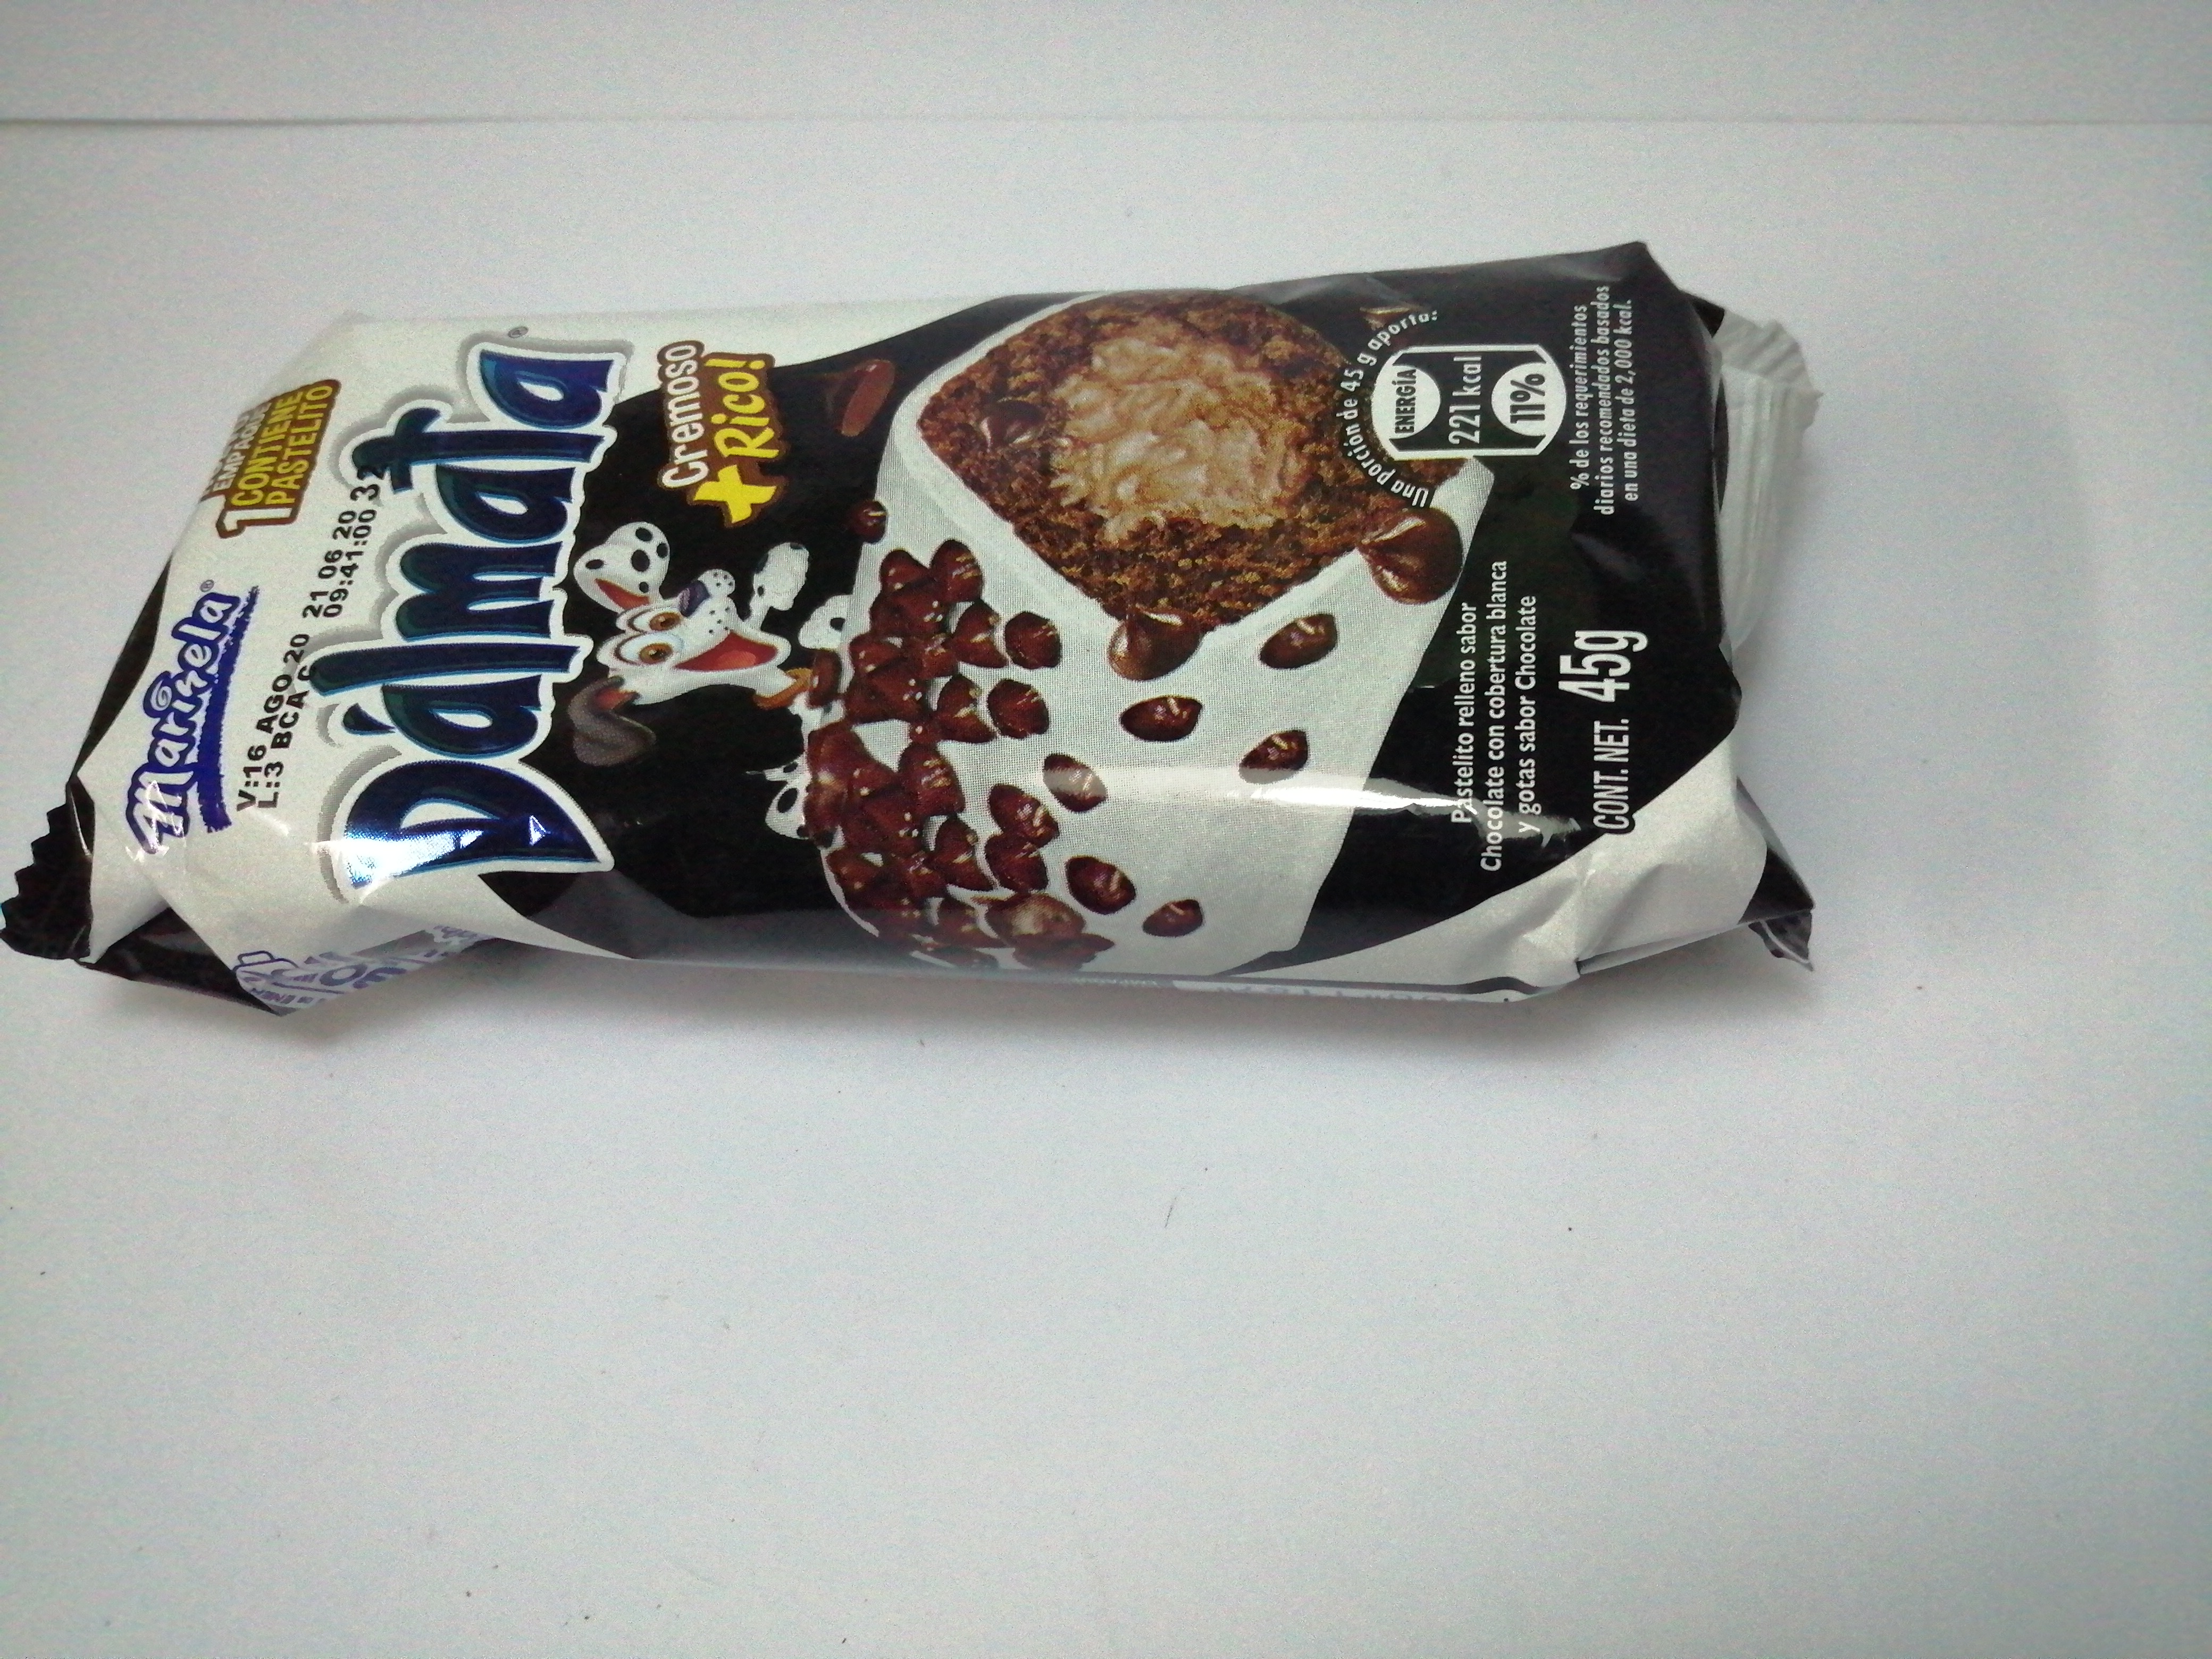dalmata: (3, 242, 1858, 1030)
